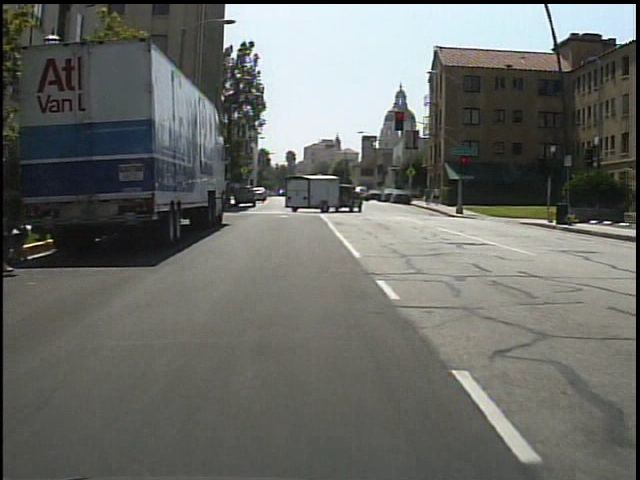person: (431, 184, 444, 210), (422, 185, 433, 209)
